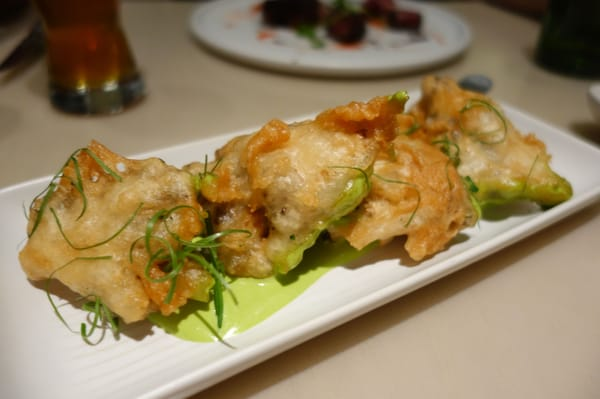pizza: (35, 1, 148, 116)
